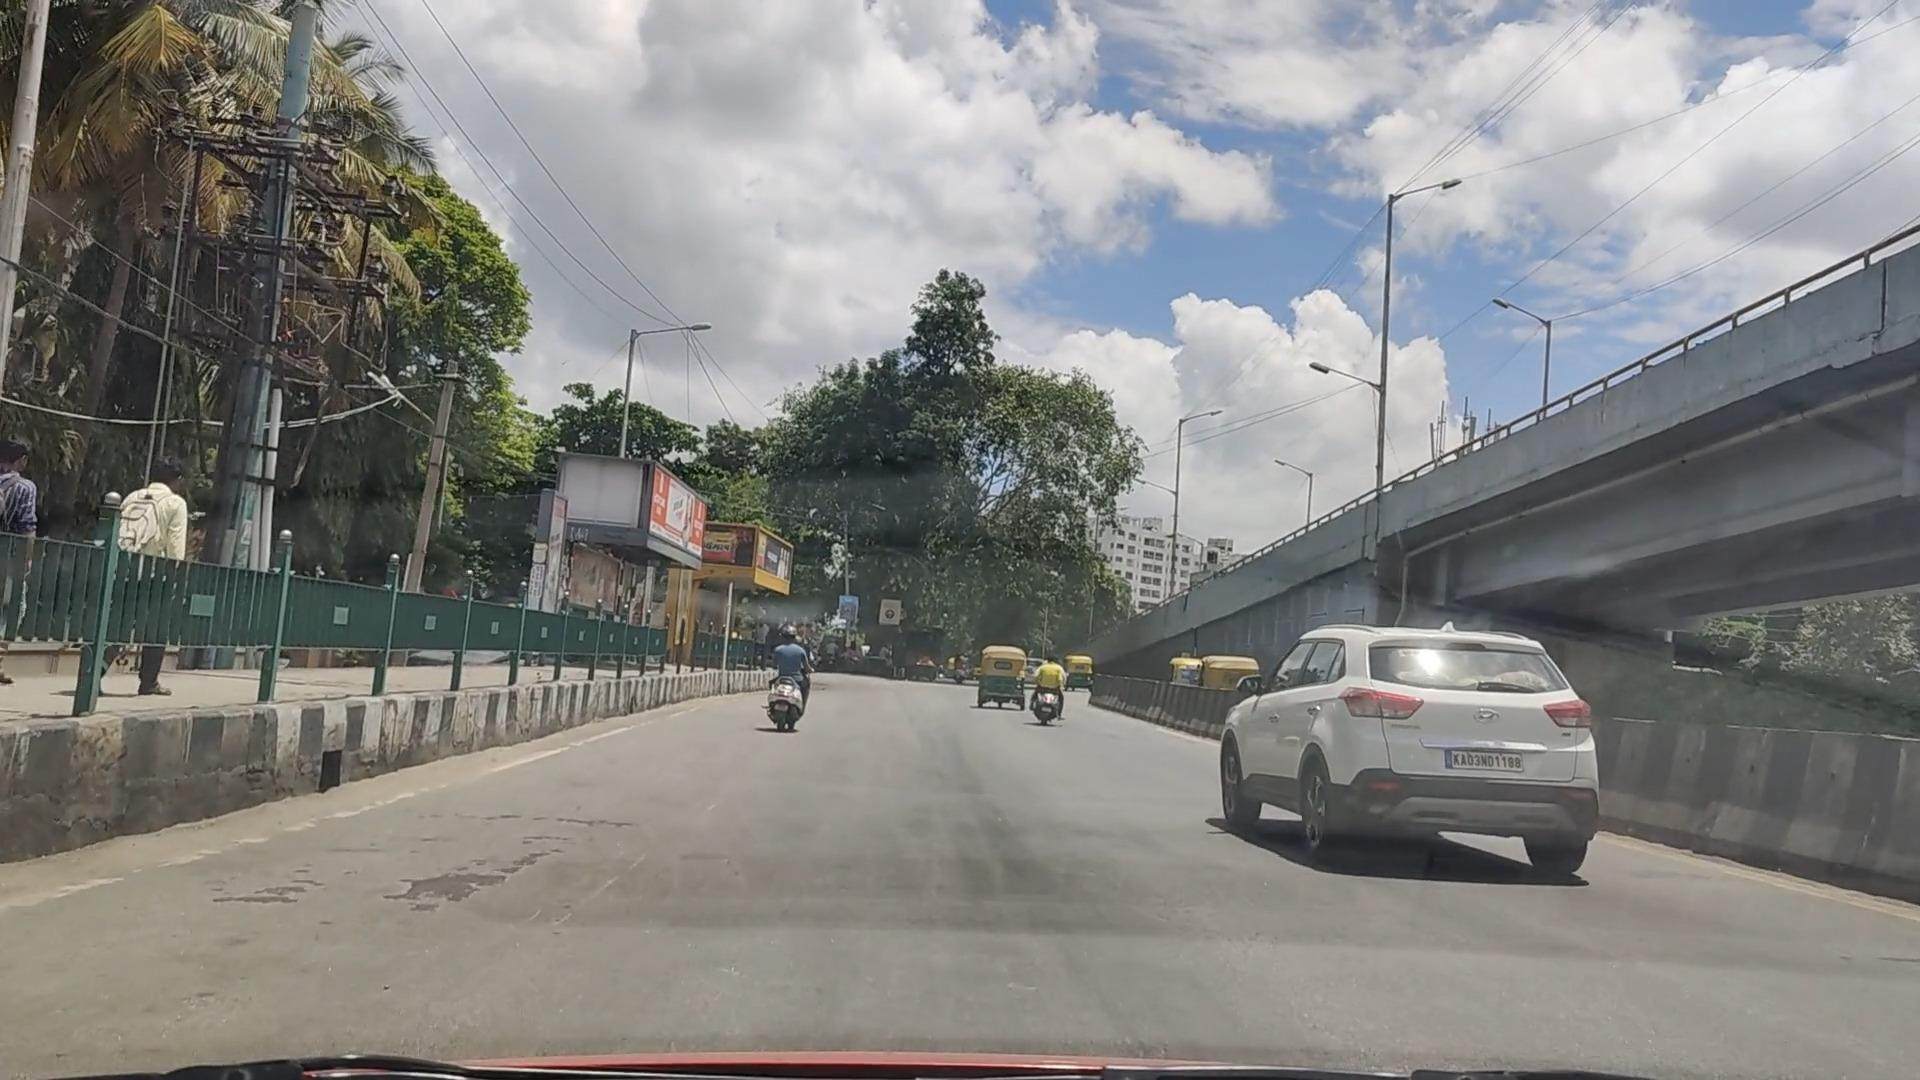LMV: (1225, 624, 1642, 890), (766, 617, 810, 740)
RoadDamages: (410, 839, 556, 910), (245, 858, 332, 927)
